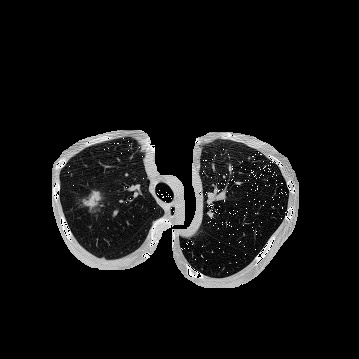PN: (82, 191, 104, 213)
